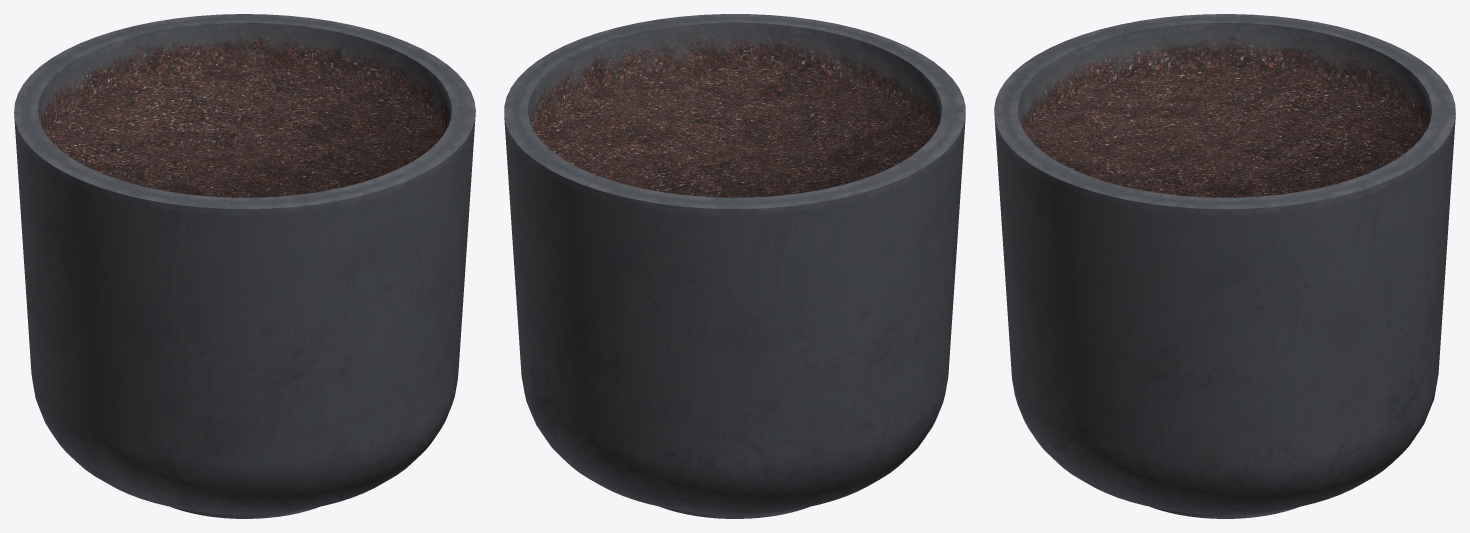
The picture shows the model from 3 angles, left to right: view 1: azimuth 30°, elevation 25°; view 2: azimuth 150°, elevation 25°; view 3: azimuth 270°, elevation 25°; orthographic projection.
Parts seen in each view (by area): view 1: Cup_Planter6; view 2: Cup_Planter6; view 3: Cup_Planter6.
Part boxes in pixels (<box>): Cup_Planter6: <box>14,14,475,518</box>; Cup_Planter6: <box>504,14,965,518</box>; Cup_Planter6: <box>994,14,1455,518</box>.
Bounding box in the file's own units: 0.4825 × 0.4166 × 0.4825.
Materials: 1 (1 with a texture image).
